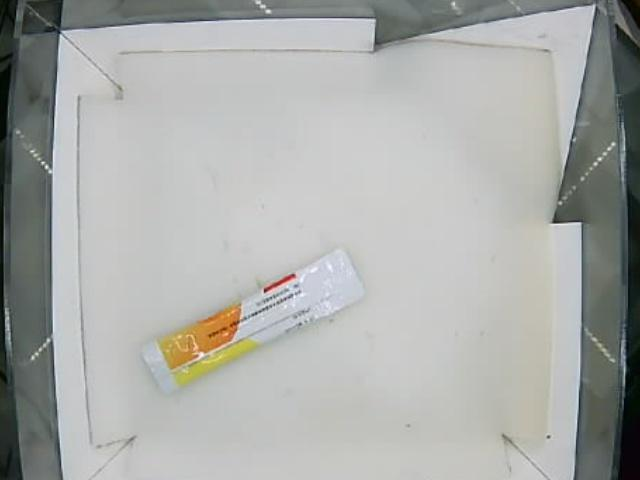Medicine: (139, 247, 367, 393)
